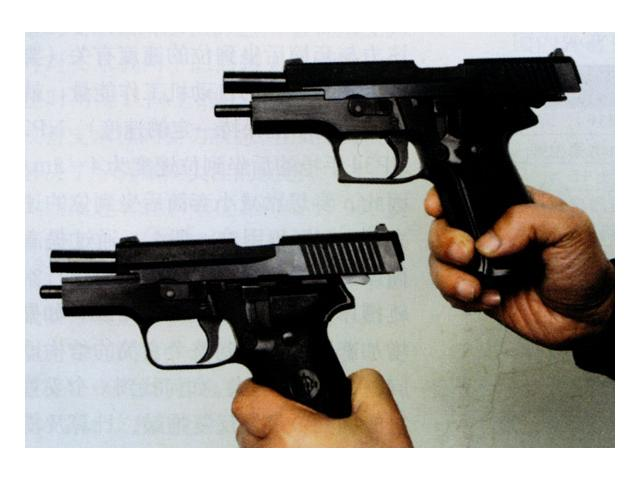pistol: (212, 49, 581, 304), (46, 218, 404, 450)
